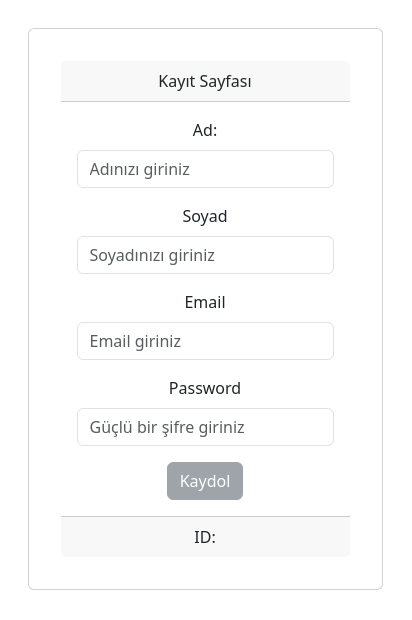
Test: Register Page › Error Messages › name input throws error for 2 chars
Type "ah" into the field with test id "ad-input" at (206,169), box [77, 150, 334, 188]
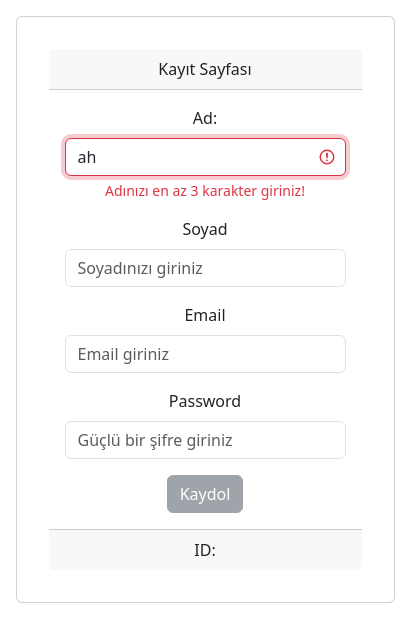
Expected: the text "Adınızı en az 3 karakter giriniz!" is shown, [105, 180, 305, 200]
